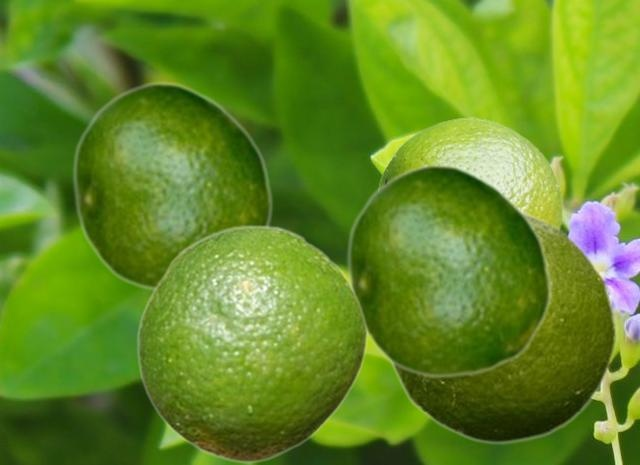calamansi: (136, 224, 367, 463), (389, 209, 617, 444), (345, 162, 552, 378), (71, 80, 273, 291), (377, 117, 561, 227)
